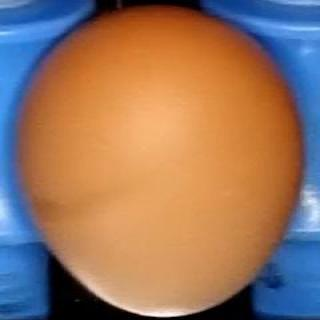Telur: (12, 6, 310, 317)
